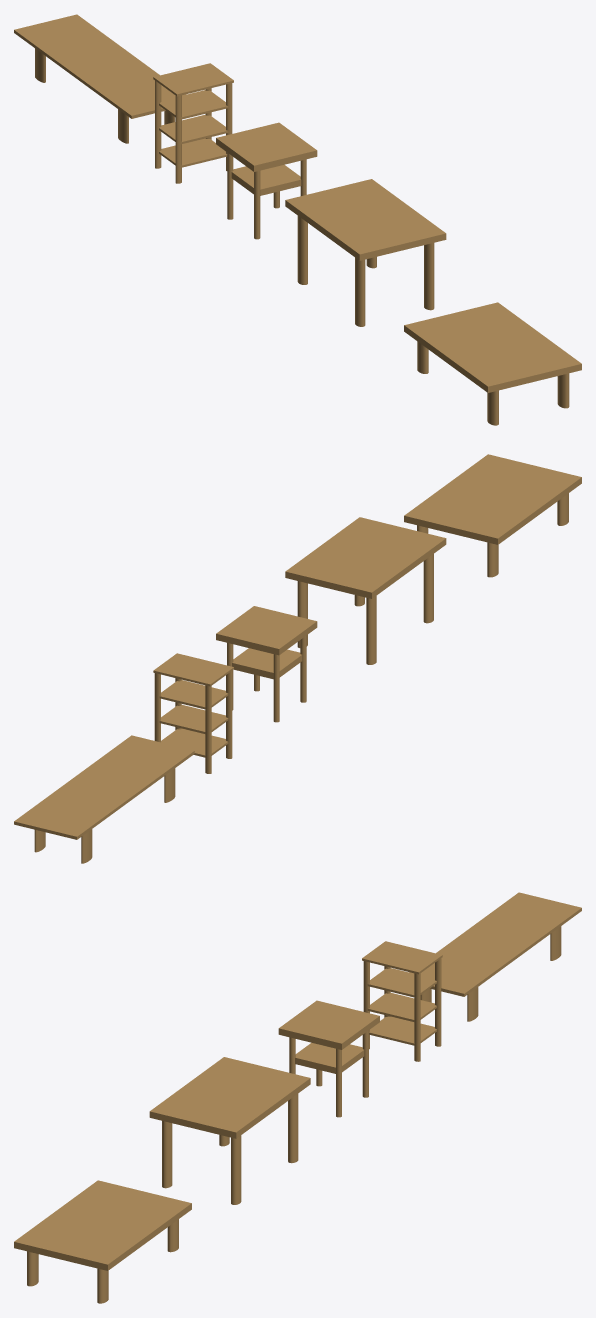
The model's file is tables.fbx.
3 renders of one model, top to bottom at view 1: azimuth 30°, elevation 25°; view 2: azimuth 150°, elevation 25°; view 3: azimuth 330°, elevation 25°, orthographic.
Visible parts, largest first — view 1: Coffee table, Standard table, TV Table, Shoe Rack, Side table; view 2: Coffee table, Standard table, TV Table, Shoe Rack, Side table; view 3: Coffee table, Standard table, TV Table, Shoe Rack, Side table.
Boxes of the visible parts, <box> form: Coffee table: <box>404,302,581,425</box>; Standard table: <box>285,179,446,326</box>; TV Table: <box>14,14,186,143</box>; Shoe Rack: <box>153,63,233,183</box>; Side table: <box>216,122,317,239</box>; Coffee table: <box>404,454,581,577</box>; Standard table: <box>285,517,446,664</box>; TV Table: <box>14,735,194,863</box>; Shoe Rack: <box>153,653,233,773</box>; Side table: <box>216,606,317,722</box>; Coffee table: <box>14,1180,191,1303</box>; Standard table: <box>149,1057,310,1204</box>; TV Table: <box>409,892,581,1021</box>; Shoe Rack: <box>362,941,442,1061</box>; Side table: <box>278,1000,379,1117</box>.
Size of the model in its own units: 220 by 203 by 1989.
